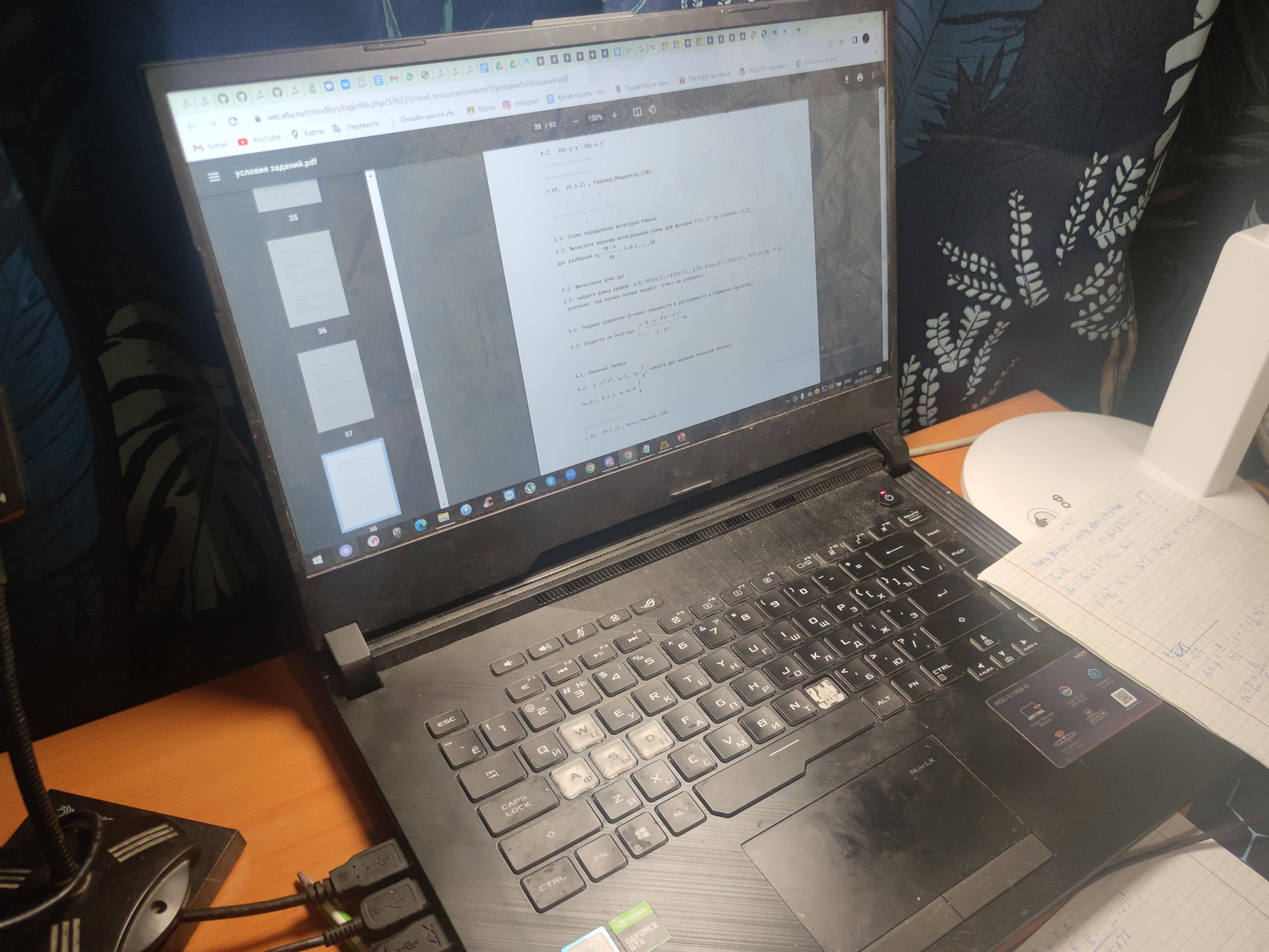monitor: (138, 0, 894, 656)
